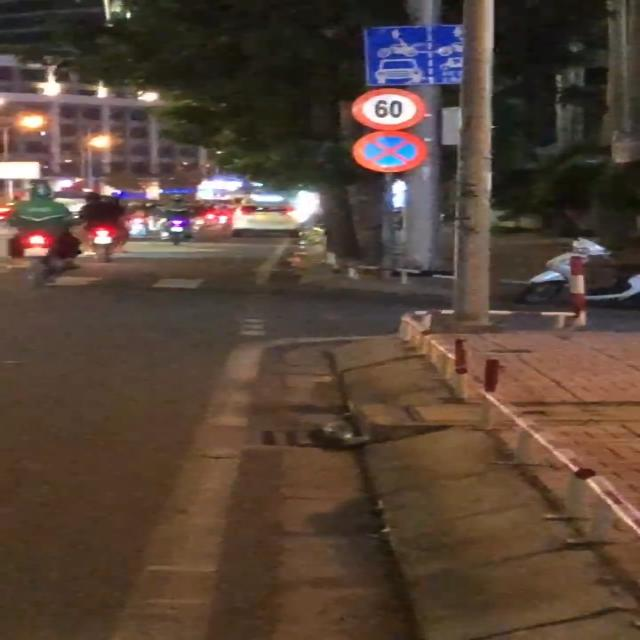Bien bao cam dung xe va do xe: (348, 126, 430, 176)
Bien bao toc do toi da cho phep: (348, 83, 428, 129)
